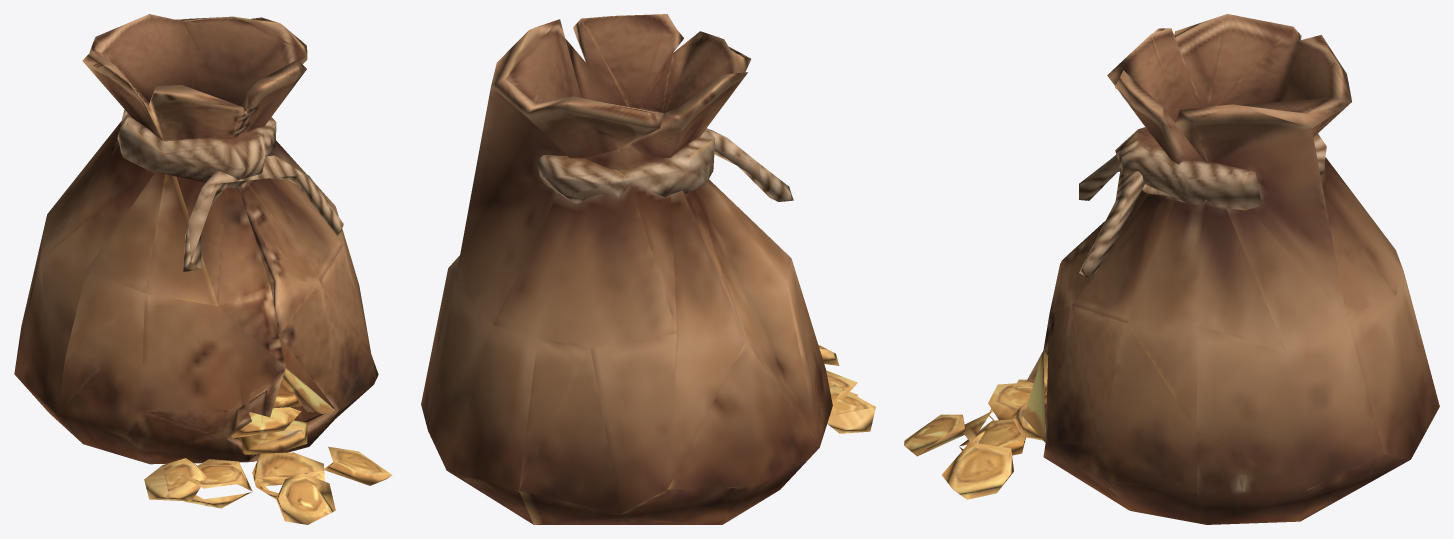
Rendered from prop_lootbag.glb.
3 renders of one model, left to right at view 1: azimuth 30°, elevation 25°; view 2: azimuth 150°, elevation 25°; view 3: azimuth 270°, elevation 25°, orthographic. The views are drawn at different scales.
Bounding box in the file's own units: 0.4395 × 0.5 × 0.6023.
Materials: 1 (1 with a texture image).
